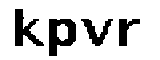k: (9, 4, 45, 52)
p: (43, 17, 77, 59)
r: (115, 16, 143, 49)
v: (80, 17, 112, 49)
